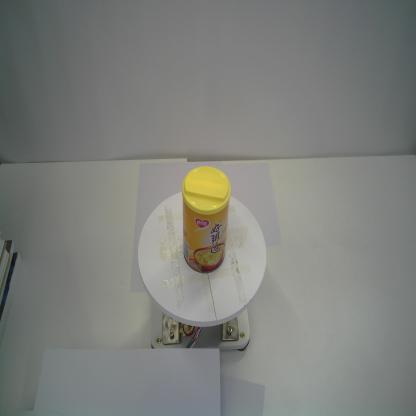Canned Food: (179, 164, 232, 275)
